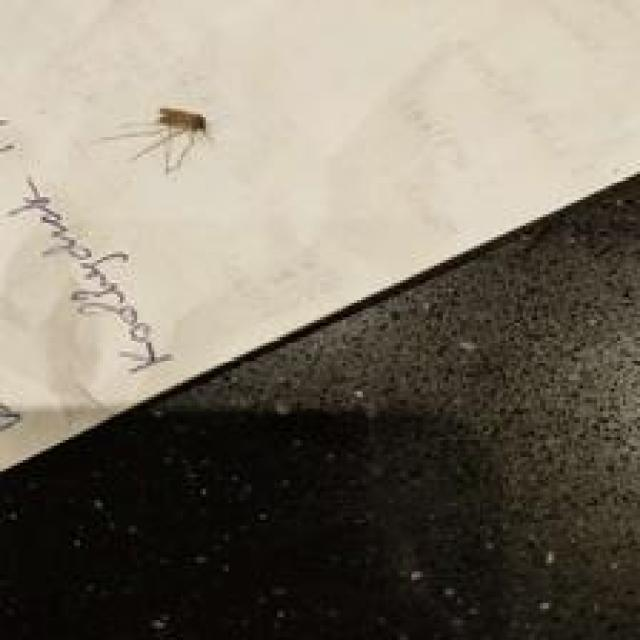Culex: (100, 106, 211, 174)
